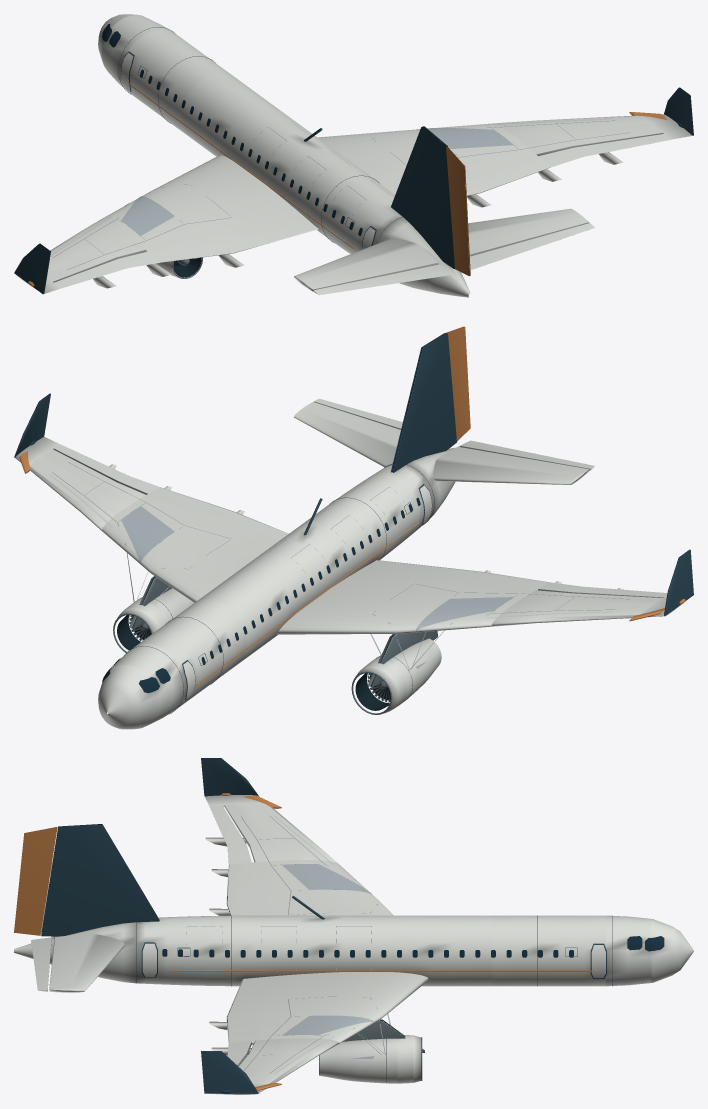
Rendered from player-stratoliner-hero-v3.glb.
3 views of the same model, one above another, from view 1: azimuth 30°, elevation 25°; view 2: azimuth 150°, elevation 25°; view 3: azimuth 270°, elevation 25° (orthographic). The views are drawn at different scales.
Parts seen in each view (by area): view 1: hull, trim, service-markings, rudder, aileron-right, elevator-right, elevator-left, aileron-left, cabin, accent; view 2: hull, trim, service-markings, metal, rudder, dark, cabin, aileron-right, aileron-left, elevator-left, accent, elevator-right; view 3: hull, trim, service-markings, rudder, cabin, accent, aileron-left, elevator-right, metal.
Part boxes in pixels (bbox=[...]): hull: bbox=[16, 14, 692, 297]; trim: bbox=[14, 27, 693, 294]; service-markings: bbox=[50, 118, 629, 269]; rudder: bbox=[446, 146, 470, 276]; aileron-right: bbox=[538, 133, 670, 167]; elevator-right: bbox=[470, 223, 594, 270]; elevator-left: bbox=[314, 264, 450, 295]; aileron-left: bbox=[54, 251, 160, 288]; cabin: bbox=[102, 24, 362, 235]; accent: bbox=[28, 83, 667, 286]; hull: bbox=[15, 402, 685, 729]; trim: bbox=[14, 333, 693, 714]; service-markings: bbox=[49, 462, 629, 670]; metal: bbox=[113, 576, 437, 714]; rudder: bbox=[446, 326, 470, 441]; dark: bbox=[117, 615, 390, 710]; cabin: bbox=[102, 497, 420, 693]; aileron-right: bbox=[53, 444, 160, 494]; aileron-left: bbox=[538, 582, 667, 597]; elevator-left: bbox=[459, 440, 594, 470]; accent: bbox=[19, 451, 685, 687]; elevator-right: bbox=[314, 398, 402, 429]; hull: bbox=[14, 795, 693, 1094]; trim: bbox=[41, 758, 612, 1093]; service-markings: bbox=[186, 816, 401, 1073]; rudder: bbox=[14, 827, 57, 935]; cabin: bbox=[162, 936, 664, 957]; accent: bbox=[170, 793, 591, 1090]; aileron-left: bbox=[209, 805, 251, 864]; elevator-right: bbox=[31, 937, 51, 991]; metal: bbox=[319, 1019, 424, 1080].
Size of the model in its own units: 59.46 by 18.7 by 57.
